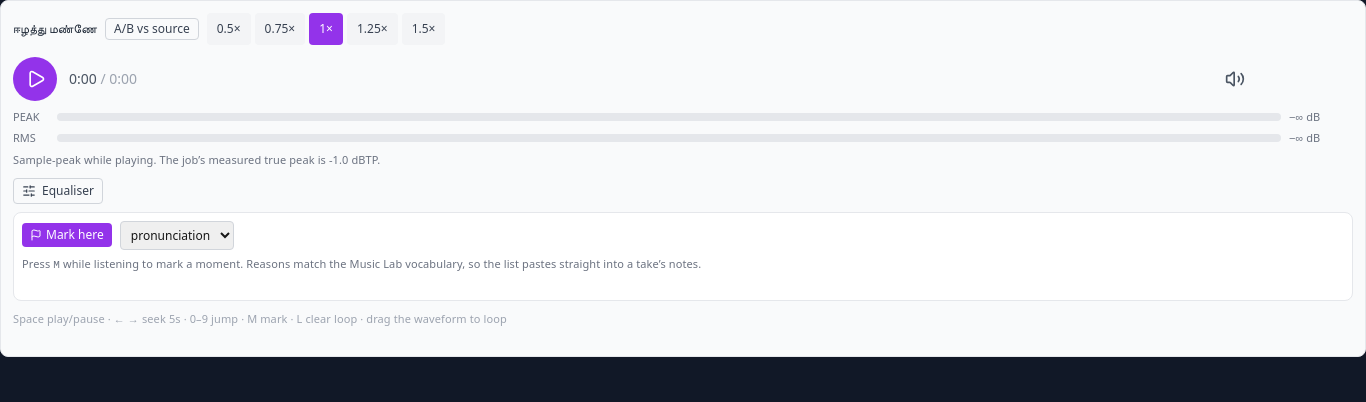
Test case: A/B against the source › says plainly when the UNMASTERED take is playing
Click the button "A/B vs source": point(152, 29) [105, 18, 199, 40]
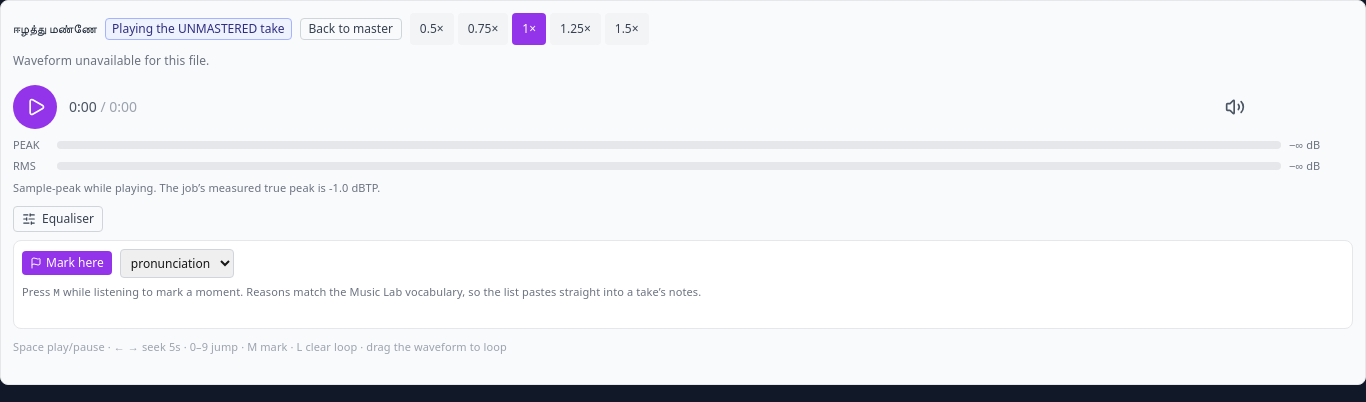
Check: the text "Playing the UNMASTERED take" is shown, box [105, 18, 292, 40]
